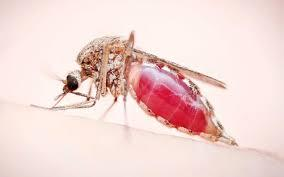Insects: (21, 27, 240, 152)
